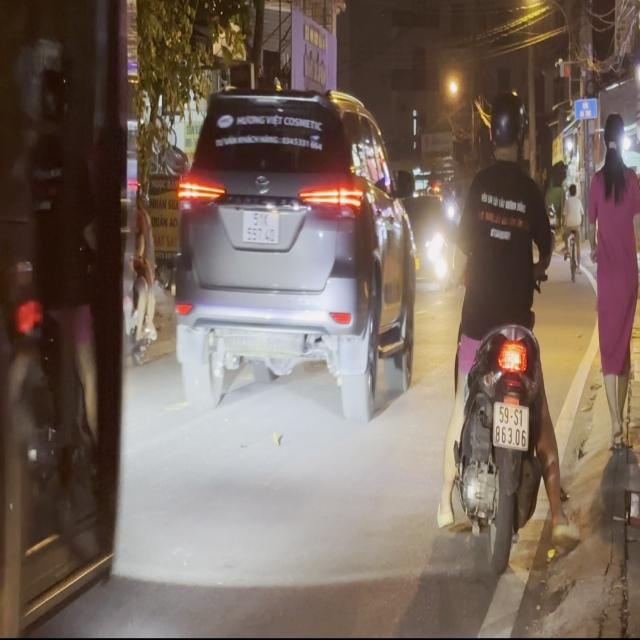helmet: (486, 92, 525, 164)
licenseplate: (434, 82, 566, 606)
nohelmet: (492, 403, 528, 447)
